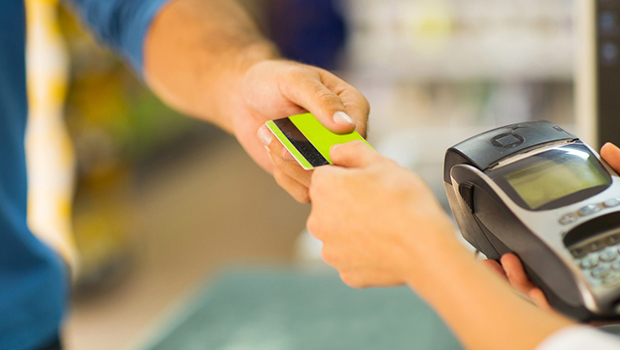tarjeta: (264, 111, 379, 173)
